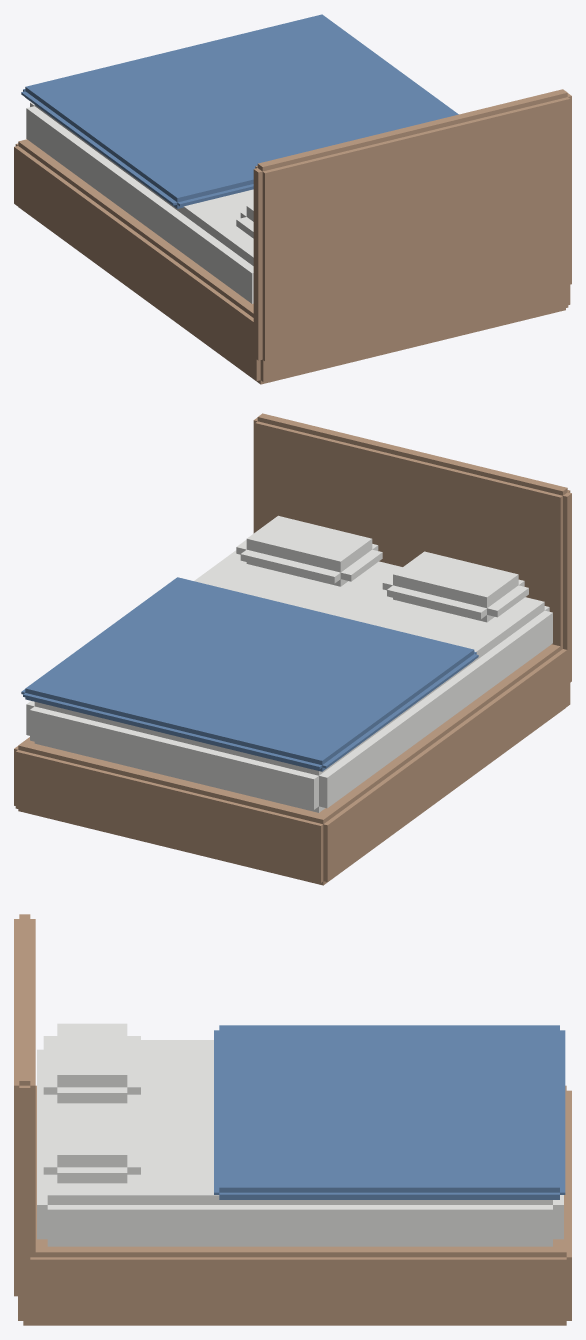
File: bed.glb
3 views of the same model, one above another, from view 1: azimuth 30°, elevation 25°; view 2: azimuth 150°, elevation 25°; view 3: azimuth 270°, elevation 25° (orthographic). The views are drawn at different scales.
Parts seen in each view (by area): view 1: bed; view 2: bed; view 3: bed.
Part boxes in pixels (x1,y1,x2,y2): bed: (14, 14, 571, 384); bed: (14, 413, 571, 885); bed: (14, 914, 571, 1325).
Bounding box in the file's own units: 1.5 × 1 × 2.06.
